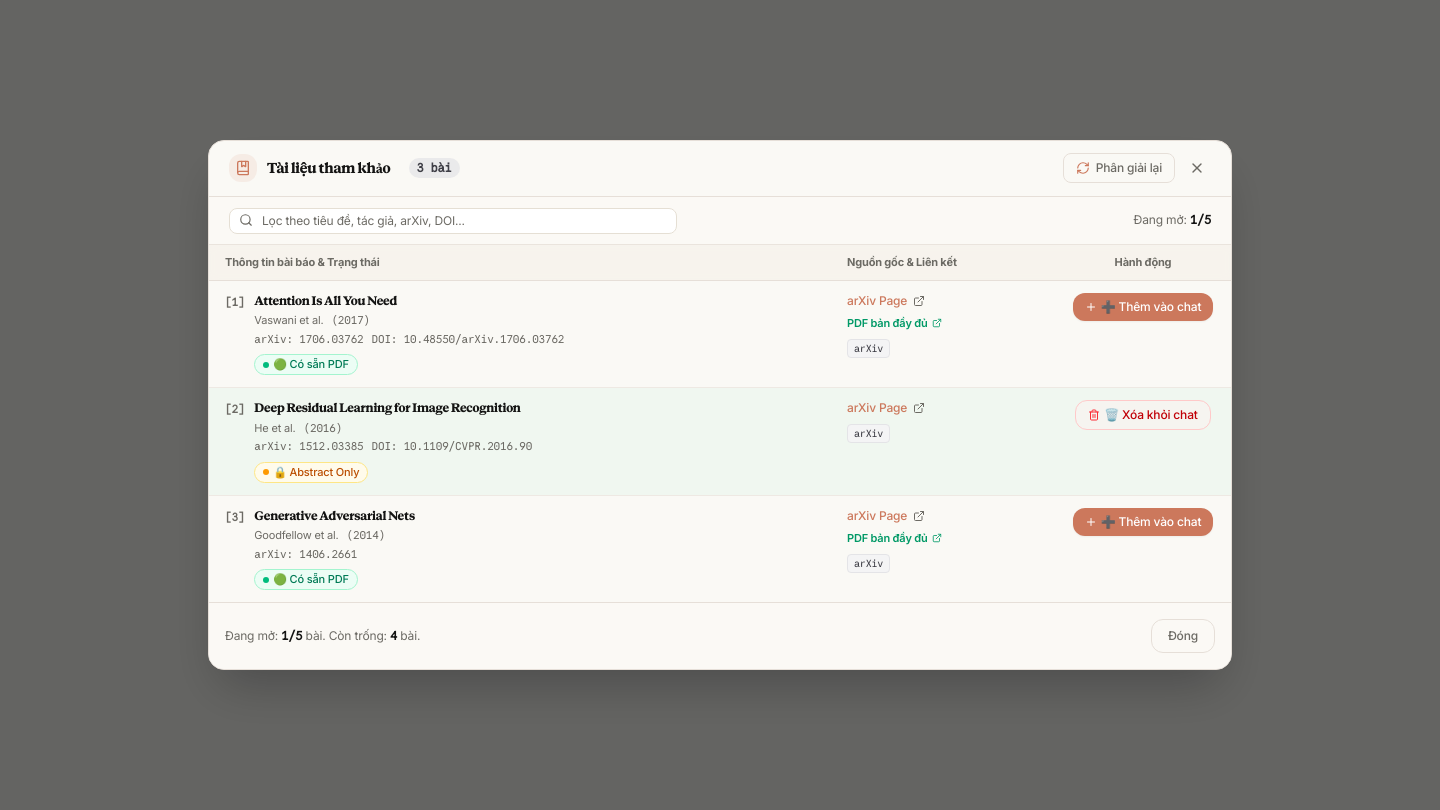
Scenario: SmartReferenceDrawer 3-Column Context Table › filters reference list quickly via search input (title, author, DOI/arXiv)
// Search by title
Type "Residual" into the field with placeholder "Lọc theo tiêu đề, tác giả, arXiv, DOI..." at x=453, y=221, box x1=229 y1=208 x2=677 y2=234
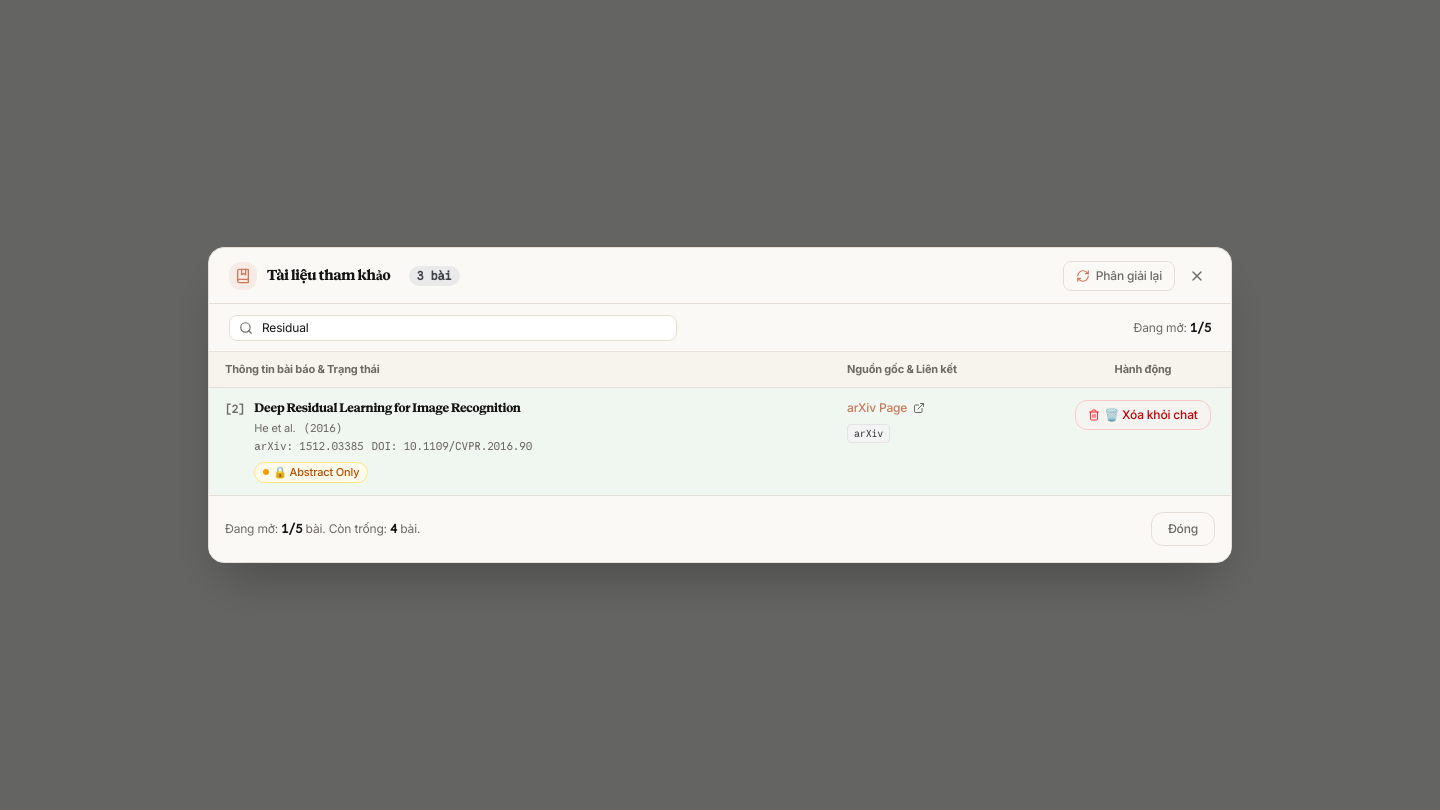
expect the heading "Deep Residual Learning for Image Recognition" is shown: met, box x1=254 y1=400 x2=521 y2=415
expect the heading "Attention Is All You Need" is gone: met
// Search by author
Replace the text in the field with placeholder "Lọc theo tiêu đề, tác giả, arXiv, DOI..." with "Goodfellow" at x=453, y=328, box x1=229 y1=315 x2=677 y2=341
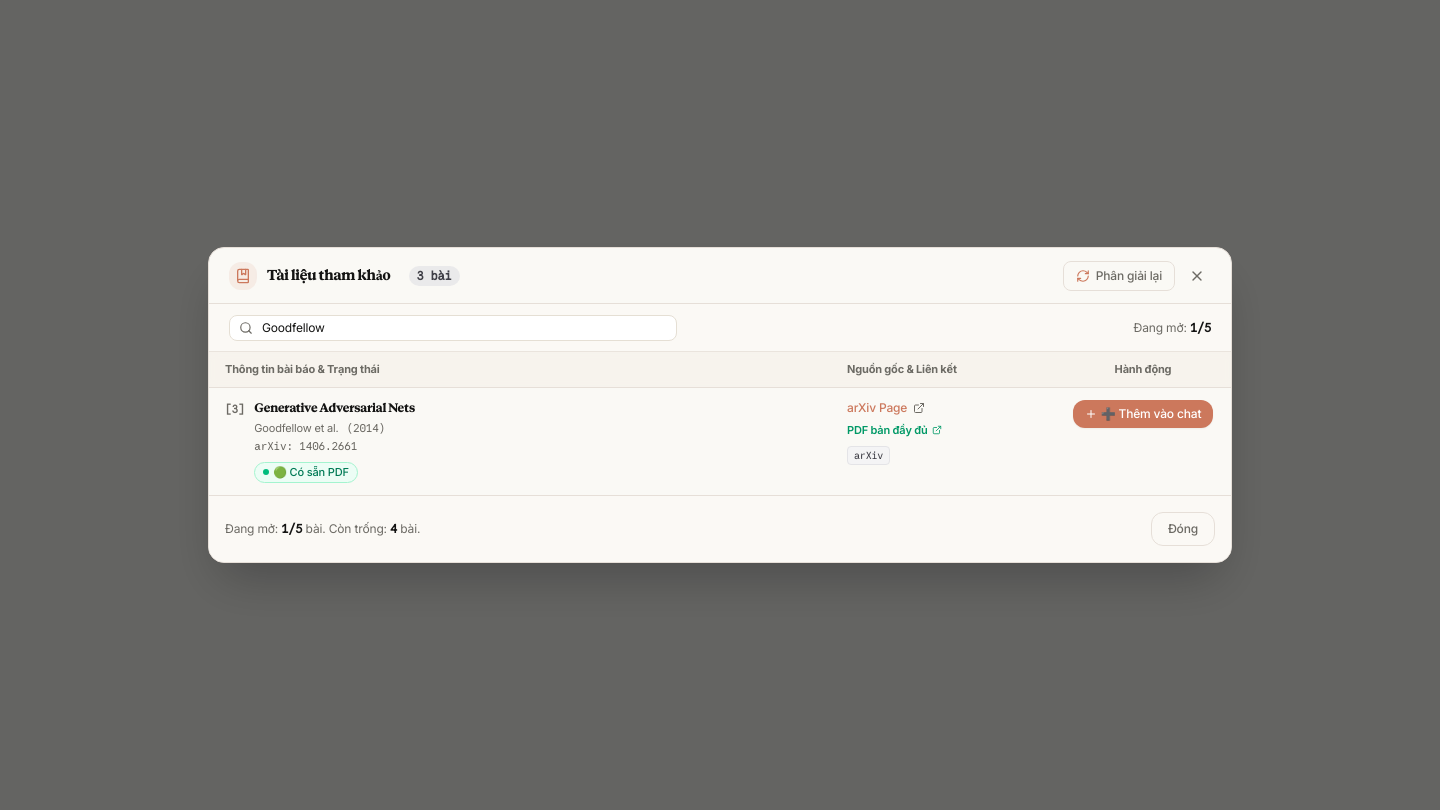
expect the heading "Generative Adversarial Nets" is shown: met, box x1=254 y1=400 x2=415 y2=415
expect the heading "Deep Residual Learning" is gone: met
// Search by arxiv id
Replace the text in the field with placeholder "Lọc theo tiêu đề, tác giả, arXiv, DOI..." with "1706.03762" at x=453, y=328, box x1=229 y1=315 x2=677 y2=341
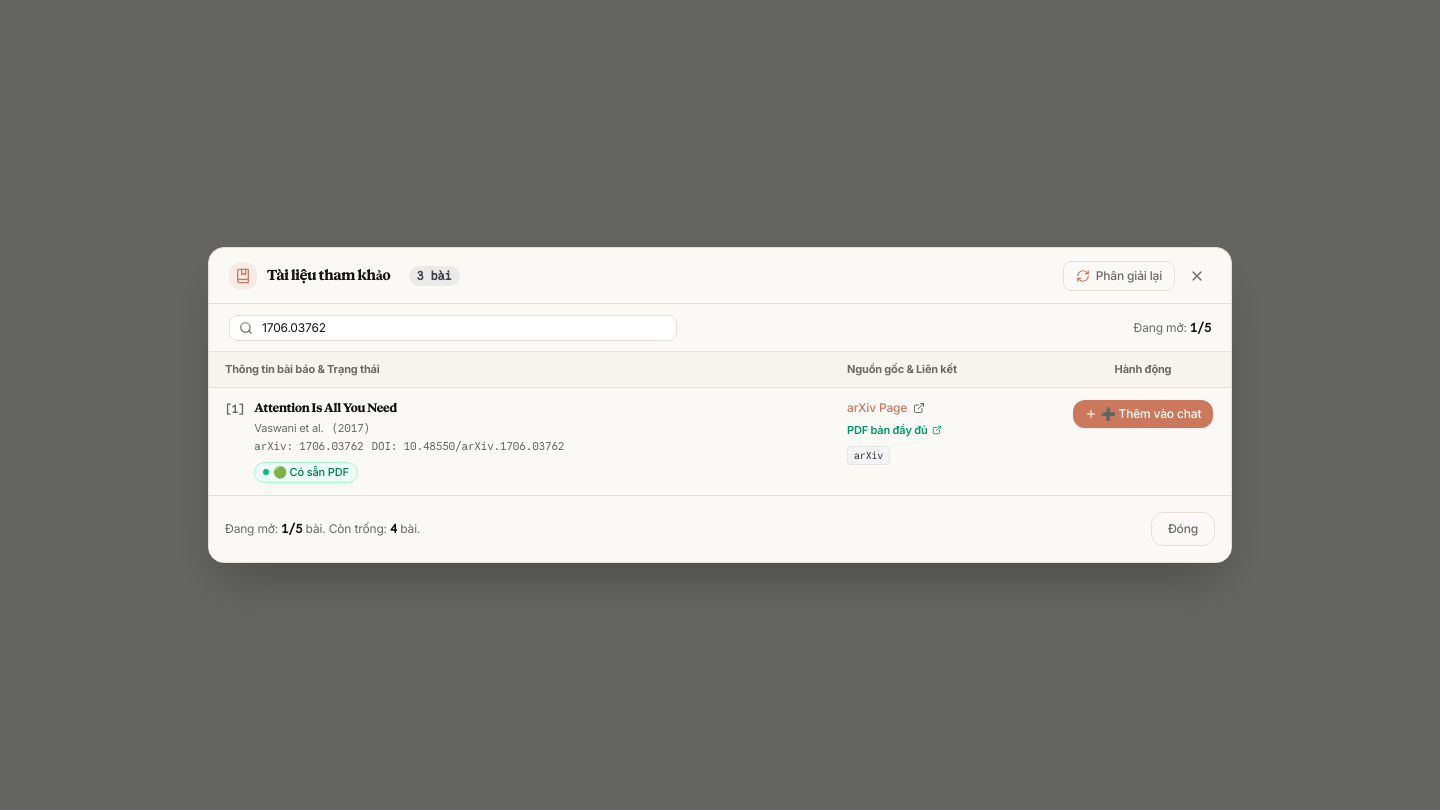
expect the heading "Attention Is All You Need" is shown: met, box x1=254 y1=400 x2=397 y2=415
expect the heading "Generative Adversarial Nets" is gone: met
